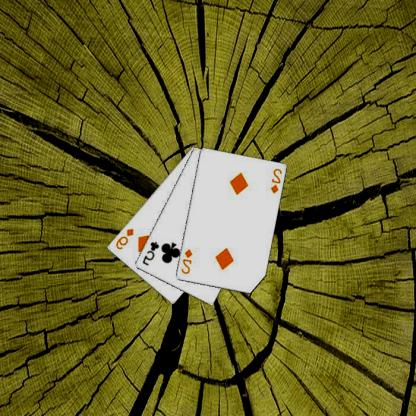2D: (180, 247, 195, 275), (270, 166, 284, 195)
5C: (141, 239, 162, 267)
6D: (115, 226, 136, 251)
